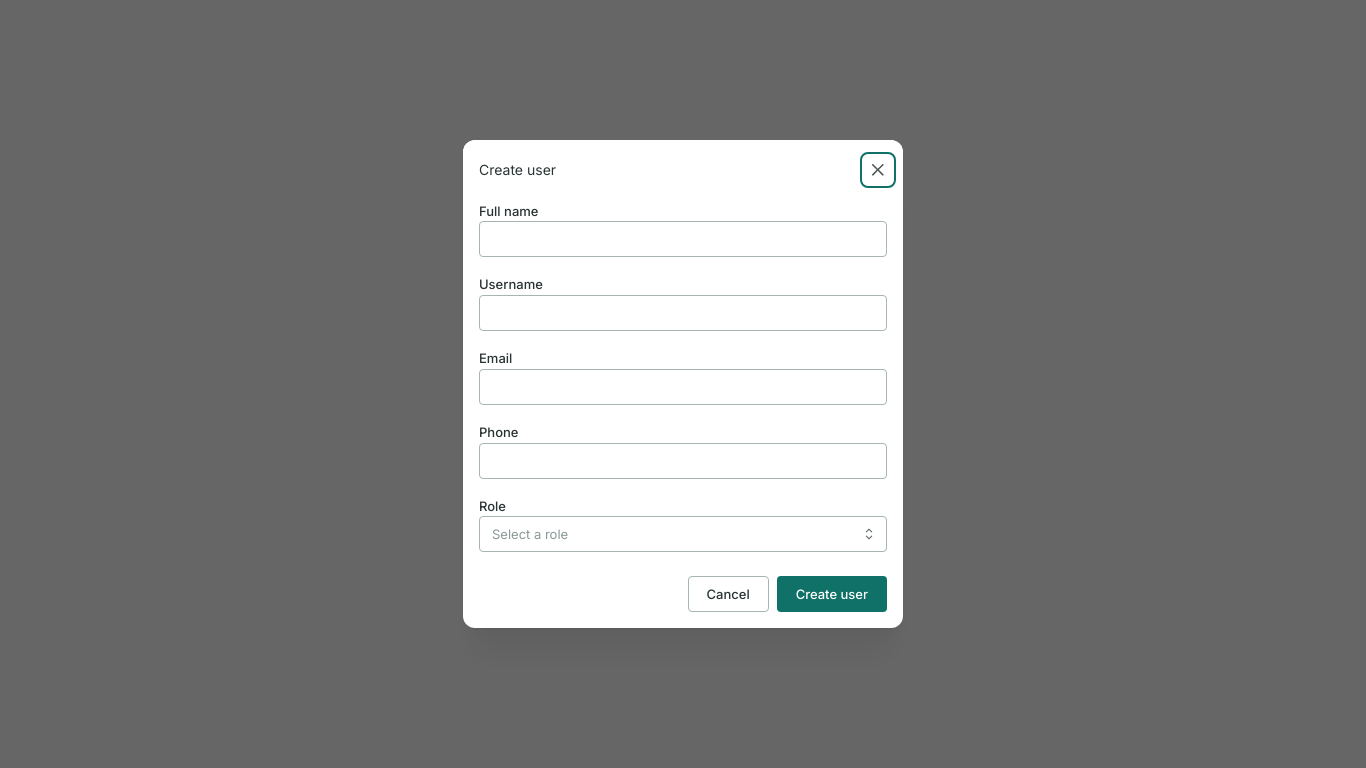
Test: CreateUserDialog › blames the username field on USERNAME_ALREADY_EXISTS
This screenshot has width=1366, height=768.
Type "Priya Physio" into the field labelled "Full name" at (683, 240), box [479,222,887,258]
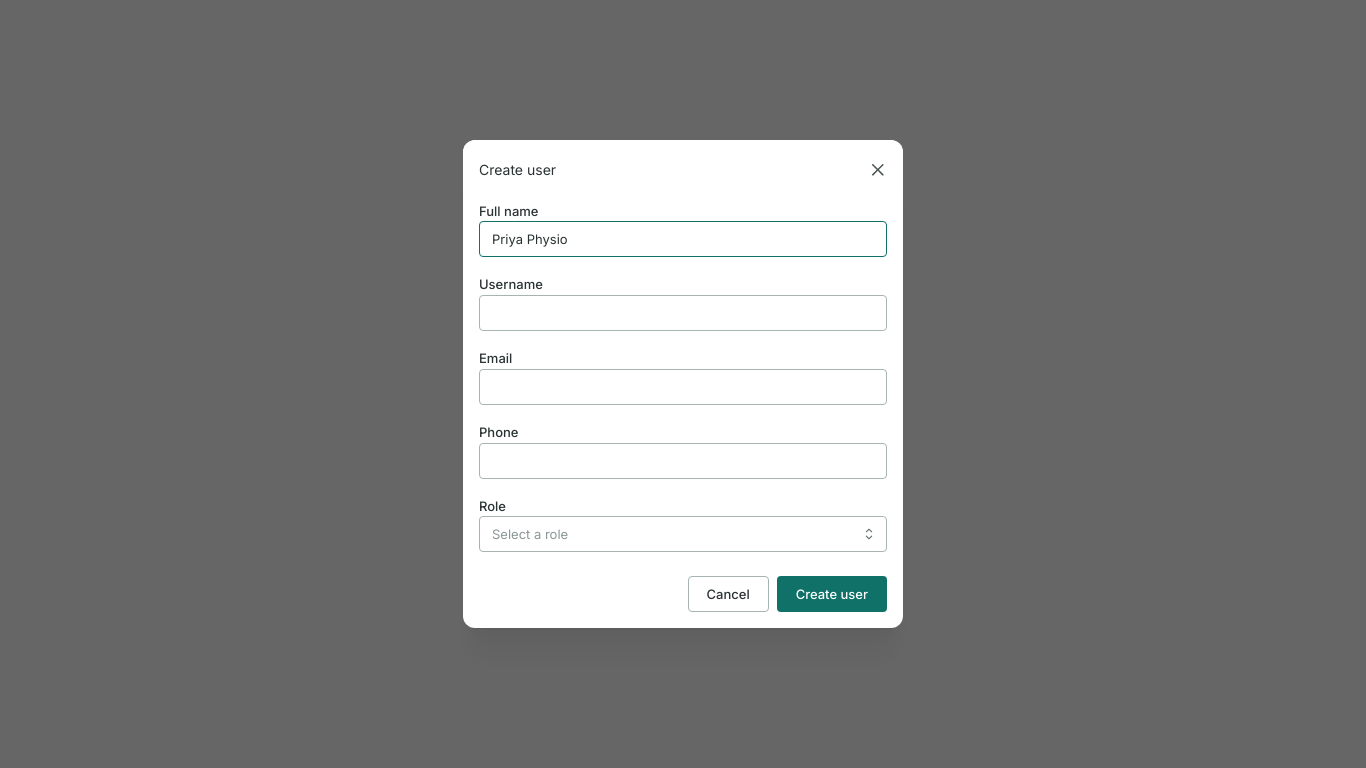
Type "priya" into the field labelled "Username" at (683, 313), box [479,295,887,331]
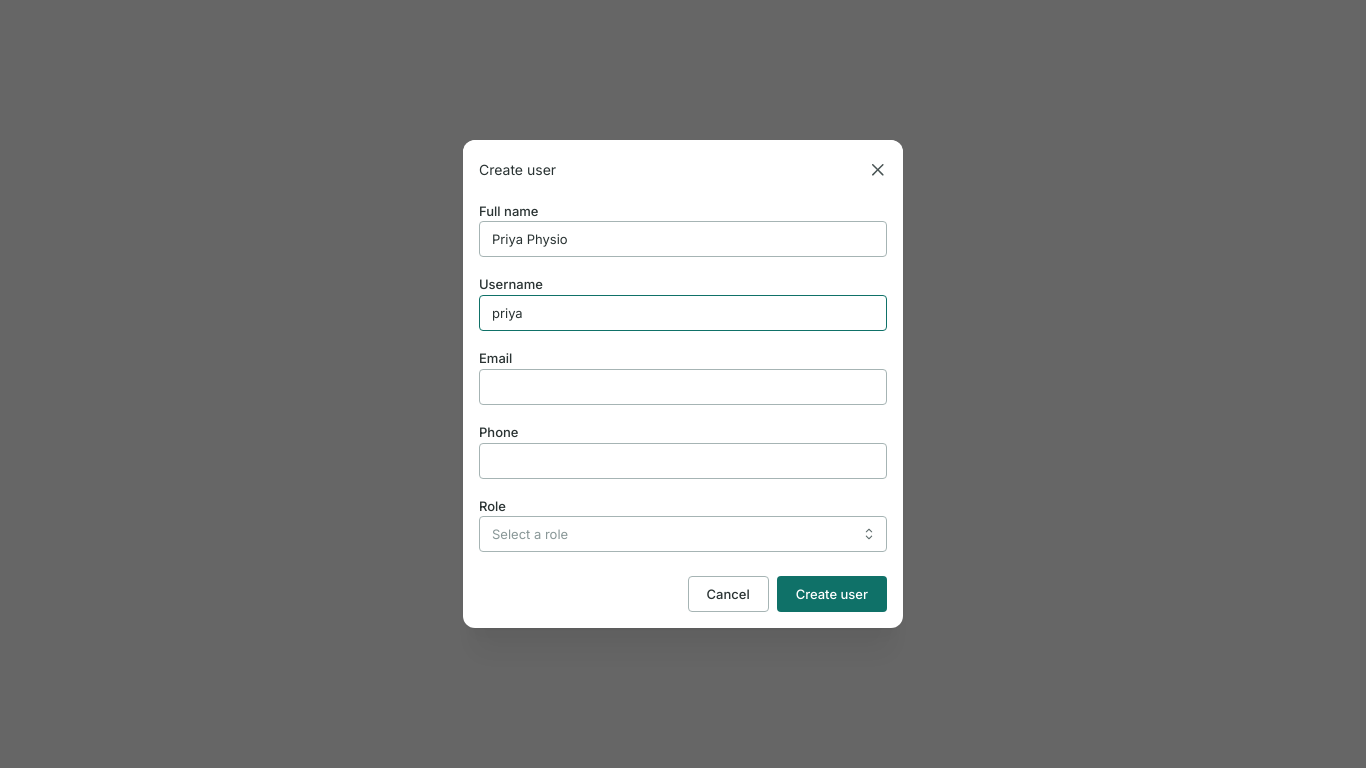
Type "priya@example.test" into the field labelled "Email" at (683, 387), box [479,369,887,405]
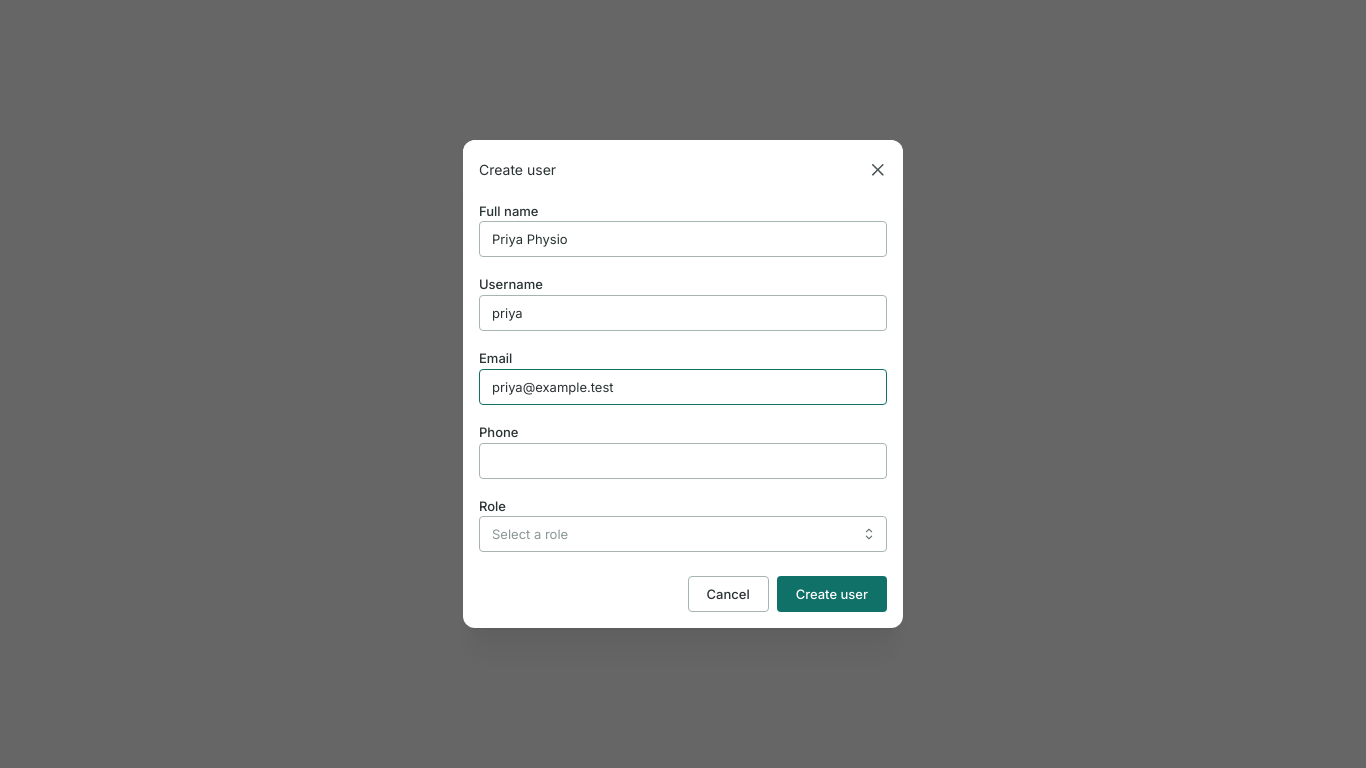
Click the dropdown labelled "Role" at (683, 534), box [479,516,887,552]
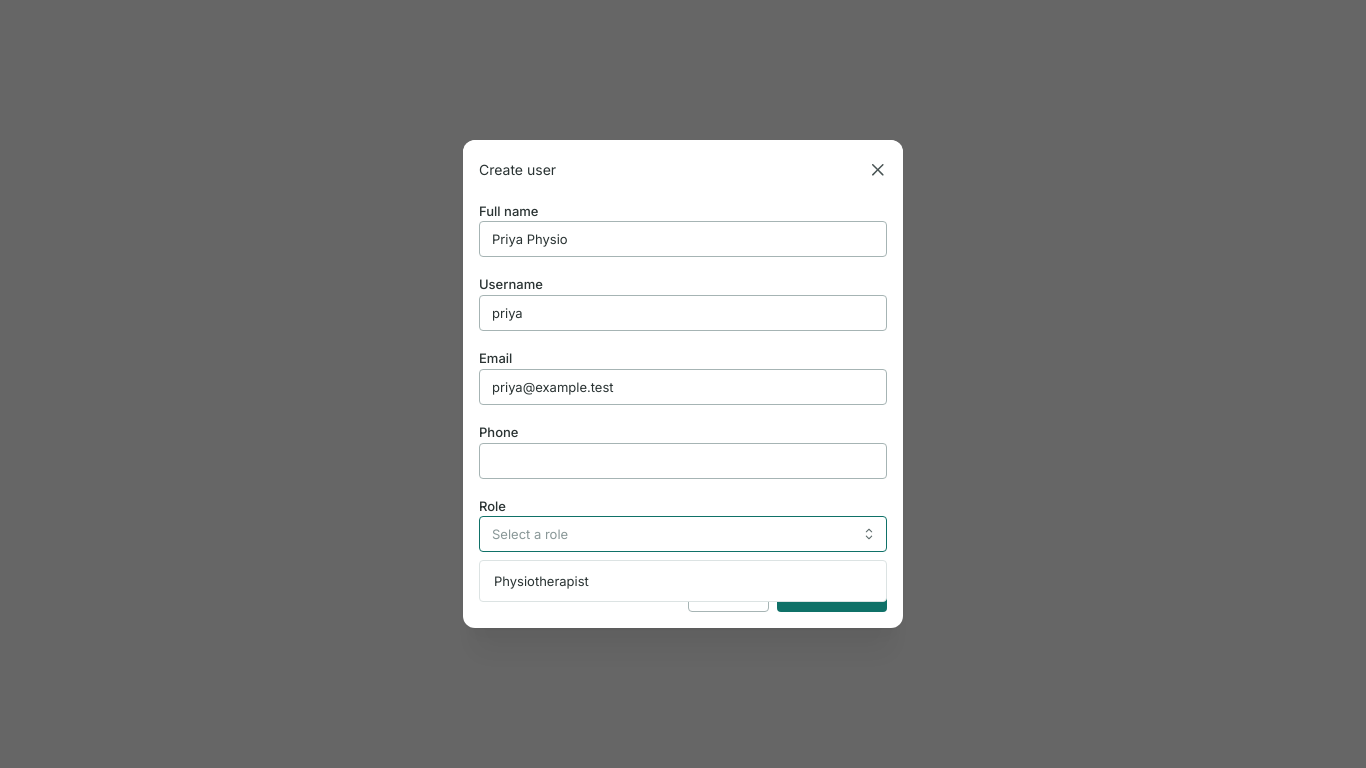
Click the option "Physiotherapist" at (541, 581), box [494,573,589,589]
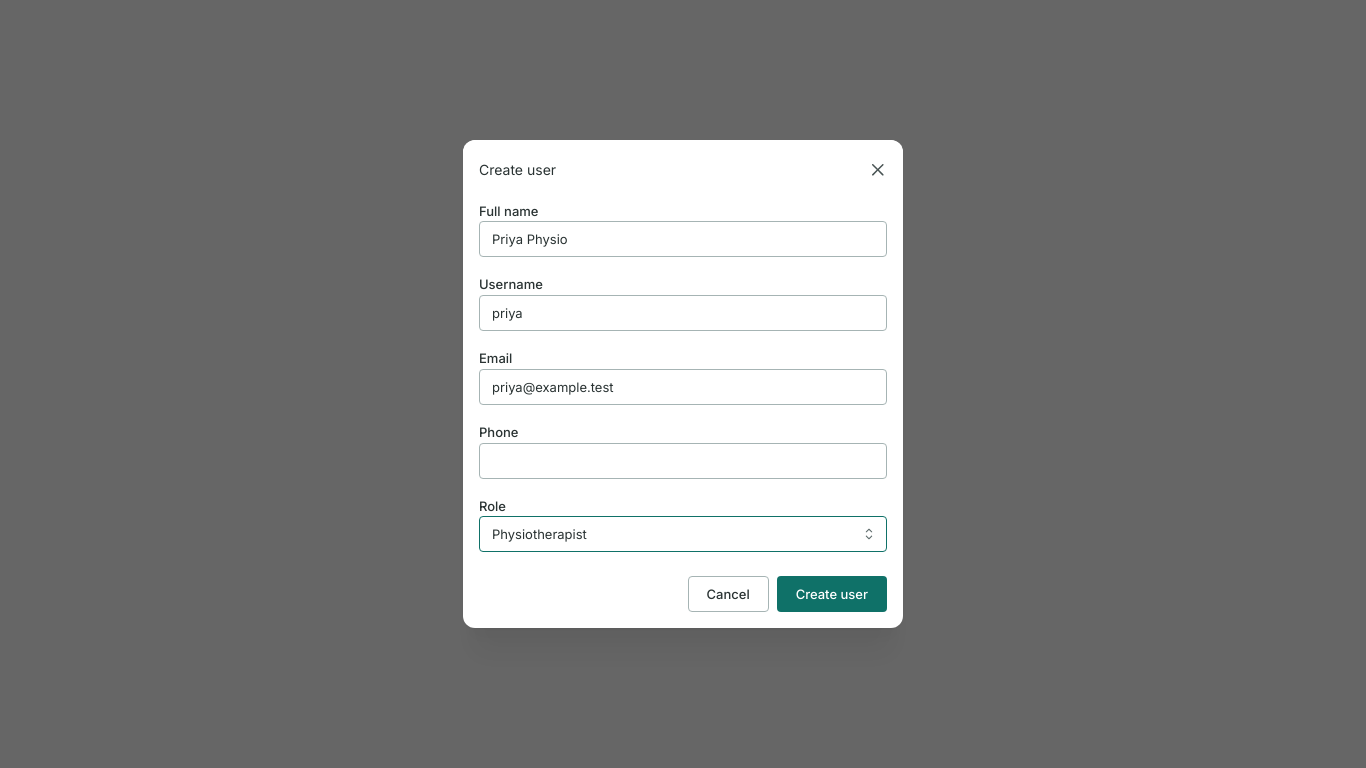
Click the button "Create user" at (832, 594), box [777,576,887,612]
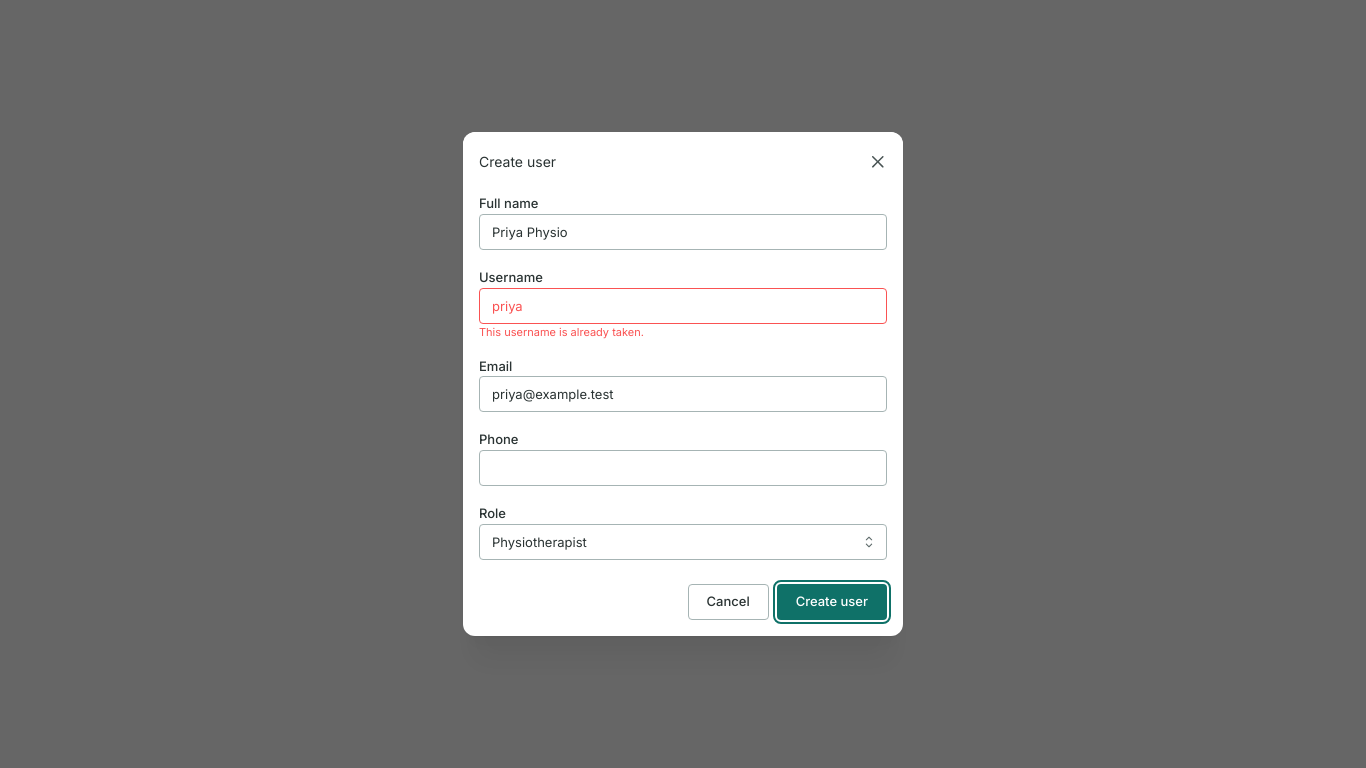
Now the text "This username is already taken." is shown, box [479,325,644,339]
